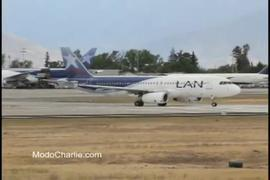aircraft: (61, 46, 241, 107)
